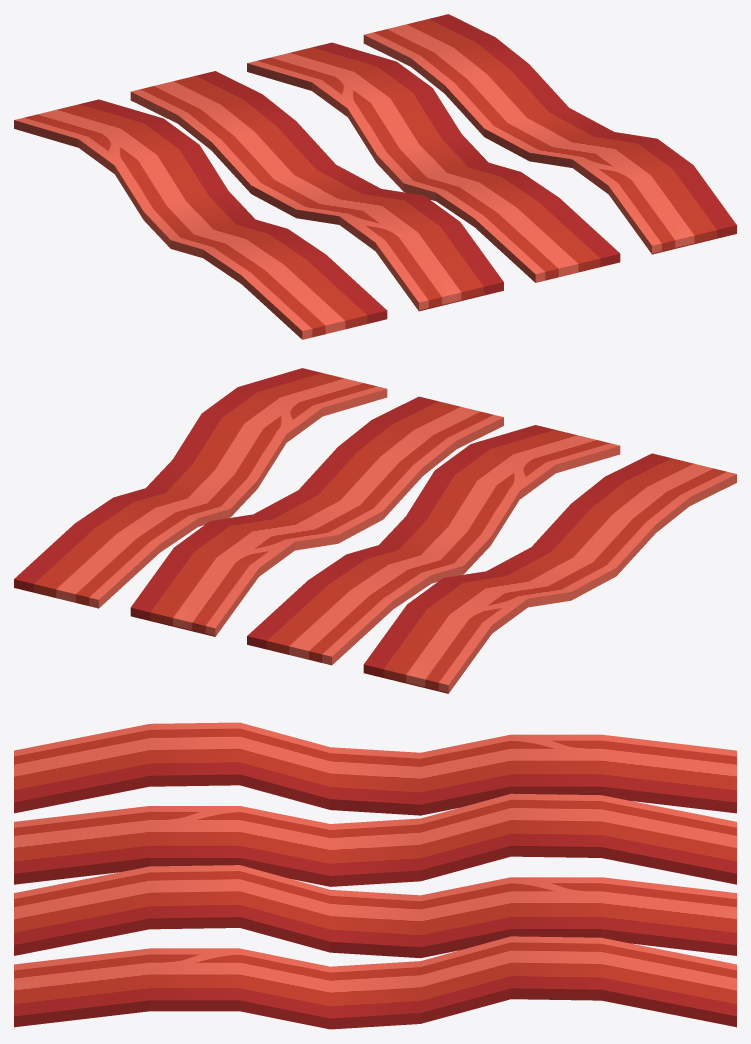
The model's file is Bacon_Slice.glb.
3 views of the same model, one above another, from view 1: azimuth 30°, elevation 25°; view 2: azimuth 150°, elevation 25°; view 3: azimuth 270°, elevation 25° (orthographic). The views are drawn at different scales.
Parts seen in each view (by area): view 1: Bacon_Slice; view 2: Bacon_Slice; view 3: Bacon_Slice.
Part boxes in pixels (box(x1,y1,x2,y2)): Bacon_Slice: box(14, 14, 736, 339); Bacon_Slice: box(14, 368, 736, 693); Bacon_Slice: box(14, 722, 736, 1029).
Size of the model in its own units: 17.85 by 1 by 19.62.
Materials: 1 (1 with a texture image).
